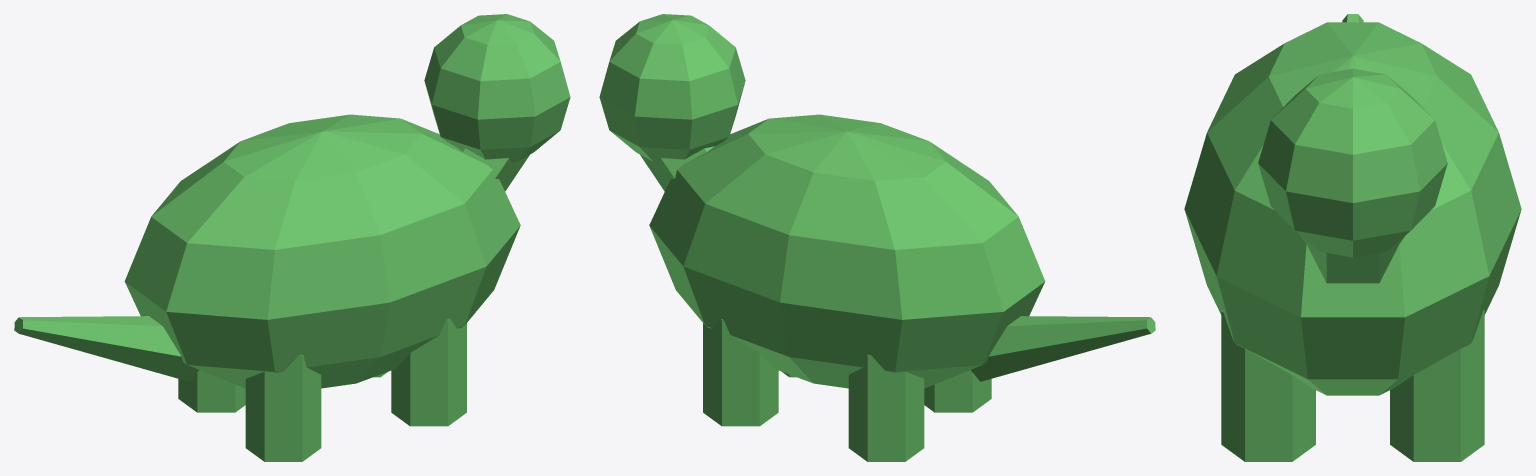
File: toy_dino.fbx
3 renders of one model, left to right at view 1: azimuth 30°, elevation 25°; view 2: azimuth 150°, elevation 25°; view 3: azimuth 270°, elevation 25°, orthographic. The views are drawn at different scales.
Parts seen in each view (by area): view 1: toy_dino; view 2: toy_dino; view 3: toy_dino.
Boxes of the visible parts, x1,y1,x2,y2 form: toy_dino: (14,14,570,461); toy_dino: (599,14,1155,461); toy_dino: (1184,14,1521,461).
Size of the model in its own units: 0.075 by 0.045 by 0.032.
